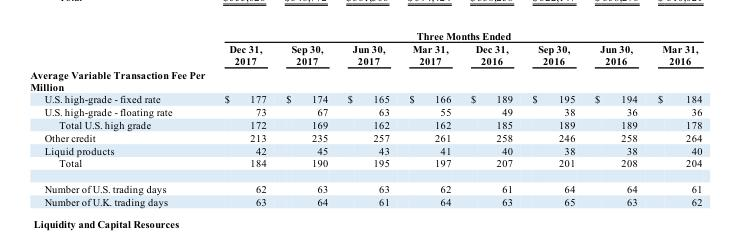table: (29, 29, 701, 207)
table column: (29, 29, 197, 207), (197, 29, 275, 207), (521, 29, 584, 207), (275, 29, 337, 207), (398, 29, 460, 207), (584, 29, 646, 207), (337, 29, 398, 207), (460, 29, 521, 207), (646, 29, 701, 207)
table column header: (29, 29, 701, 67)
table projected row header: (29, 67, 701, 92)
table row: (29, 41, 701, 67), (29, 67, 701, 92), (29, 156, 701, 175), (29, 175, 701, 194), (29, 92, 701, 105), (29, 105, 701, 118), (29, 130, 701, 143), (29, 143, 701, 156), (29, 194, 701, 207), (29, 29, 701, 41), (29, 118, 701, 130)
table spanning cell: (197, 29, 701, 41)
